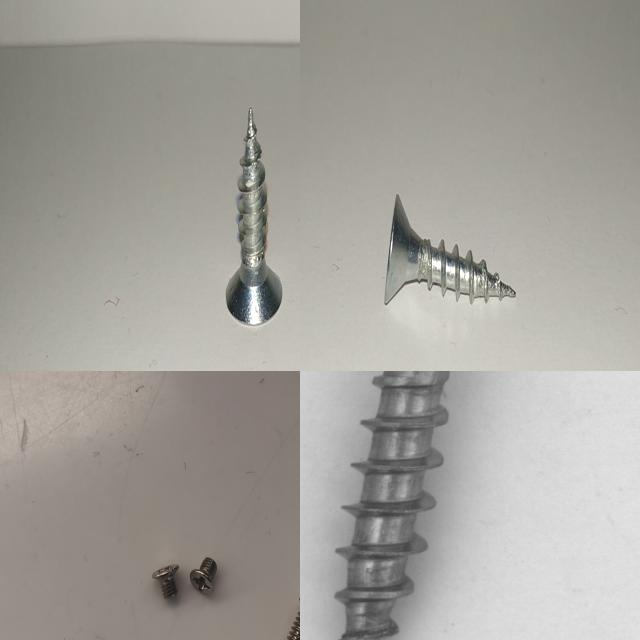Screw: (325, 371, 562, 640), (384, 194, 516, 303), (226, 106, 282, 325), (188, 552, 224, 598), (149, 558, 183, 605), (281, 592, 300, 640)
